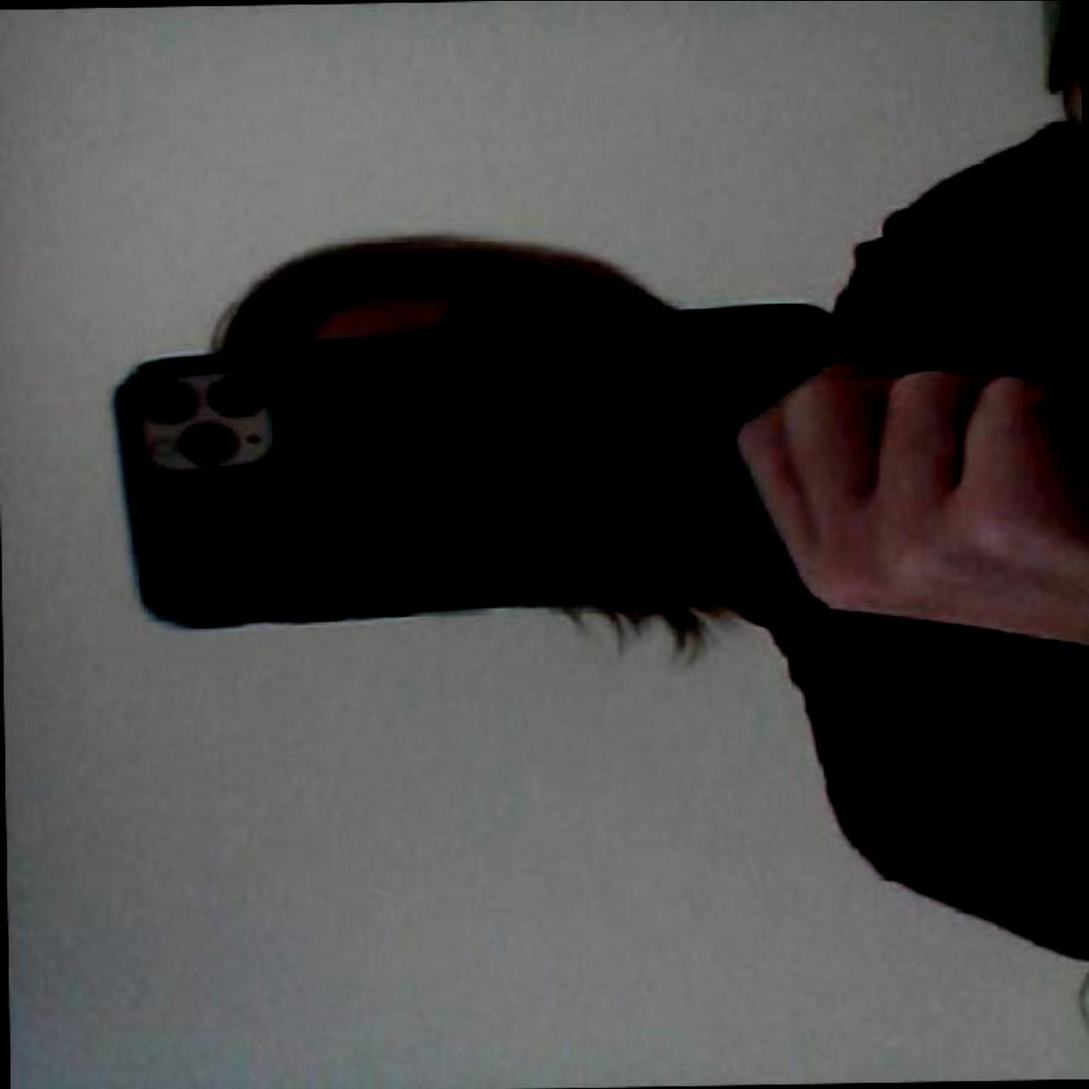phone: (109, 300, 878, 639)
